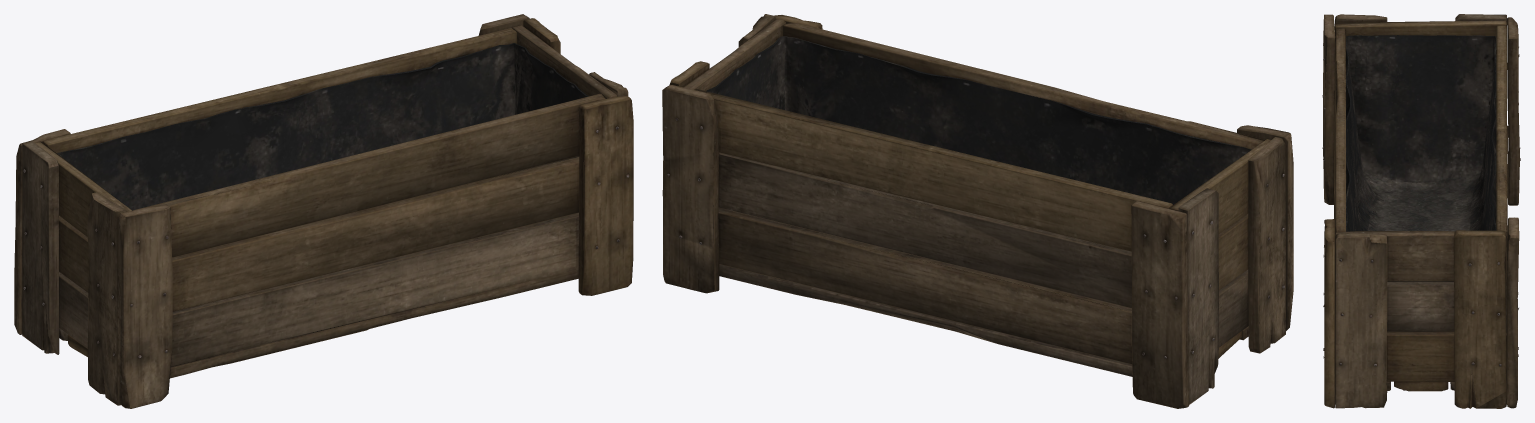
The model's file is planter_box_02_1k.gltf.
3 renders of one model, left to right at view 1: azimuth 30°, elevation 25°; view 2: azimuth 150°, elevation 25°; view 3: azimuth 270°, elevation 25°, orthographic. The views are drawn at different scales.
Visible parts, largest first — view 1: planter_box_02; view 2: planter_box_02; view 3: planter_box_02.
Boxes of the visible parts, x1,y1,x2,y2 form: planter_box_02: [14, 14, 633, 408]; planter_box_02: [662, 14, 1293, 408]; planter_box_02: [1322, 14, 1520, 408].
Size of the model in its own units: 1.25 by 0.4539 by 0.4672.
Materials: 1 (1 with a texture image).
